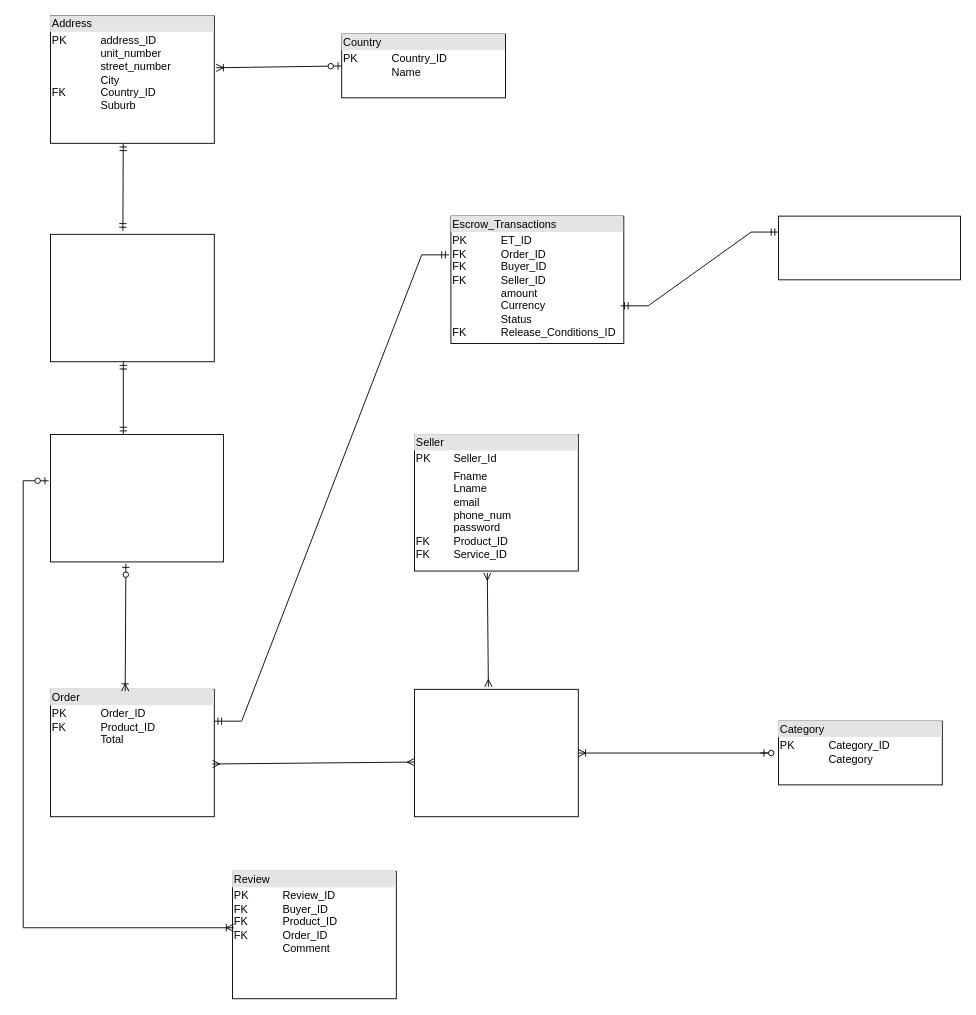
Some shapes in this 976 by 1015 pixel diagram are drawn without their labels. The shapes that lost their labels are listed below. From the top down, each one's centre as x and y in pixels, then its label:
At (x=869, y=247): "Release_Conditions PK Release_Conditions_ID Conditions".
At (x=132, y=297): "Location PK Location_ID FK address_ID FK Buyer_ID is_Default".
At (x=136, y=498): "Buyer PK Buyer_Id FK Fname Lname email phone_num password Address_ID".
At (x=496, y=752): "Product PK Product_ID FK Category_ID Description Price Quantity".
